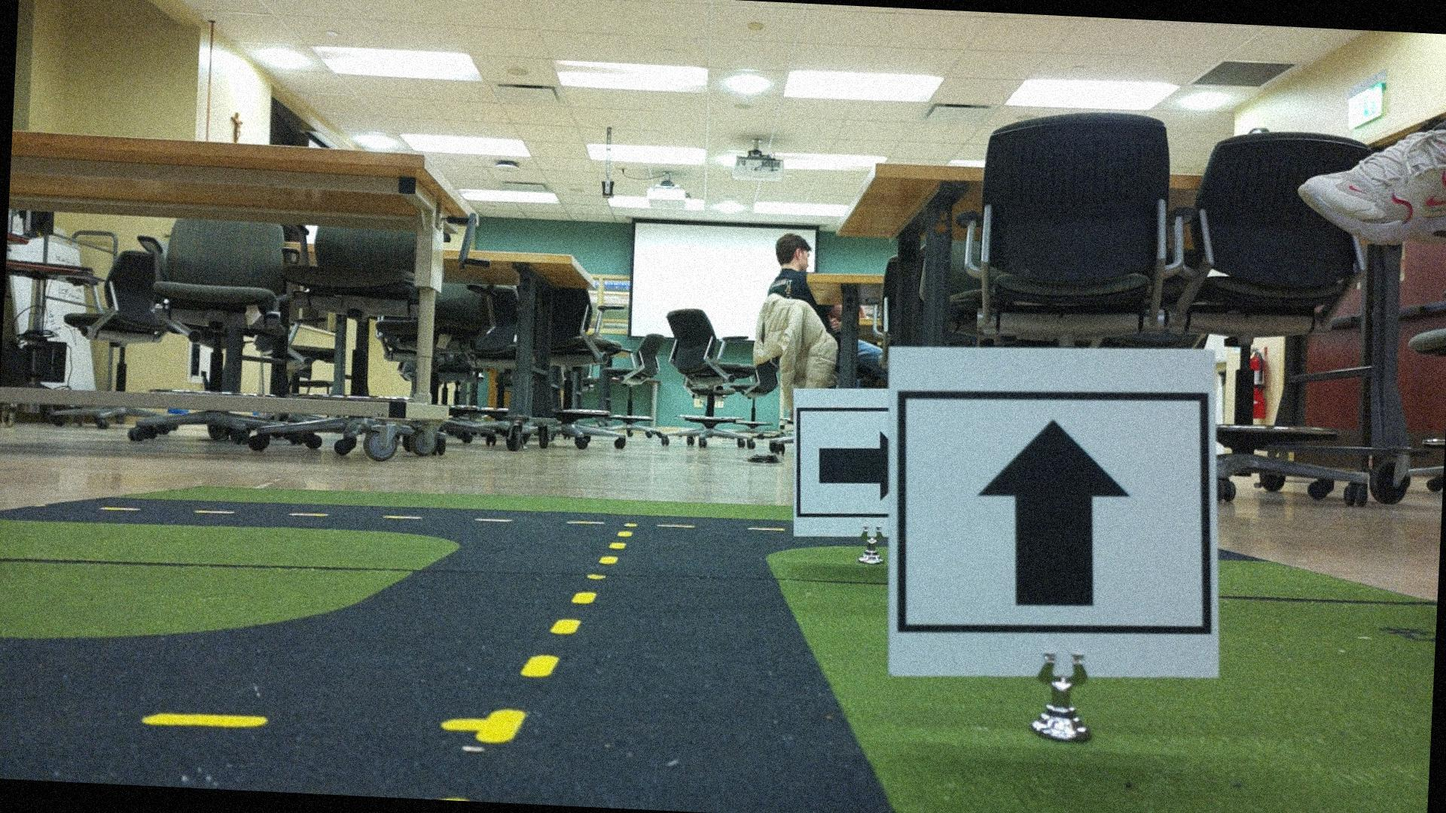gostraight: (892, 350, 1210, 708)
yellowline: (479, 513, 638, 755)
